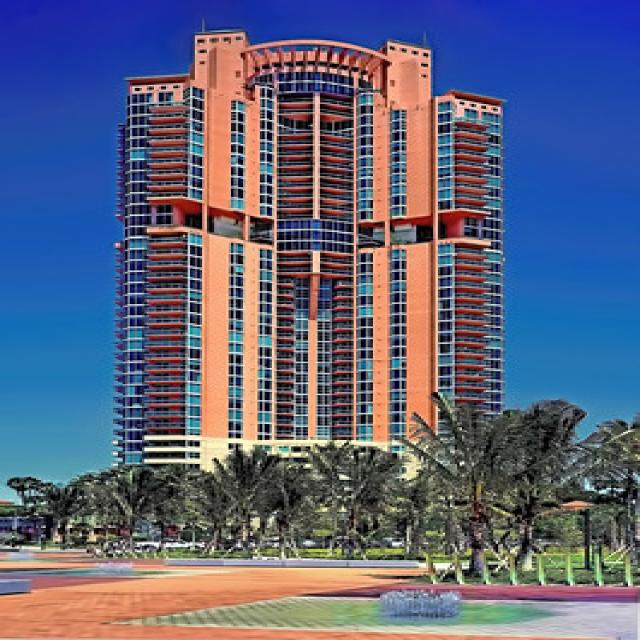building: (102, 24, 512, 552)
